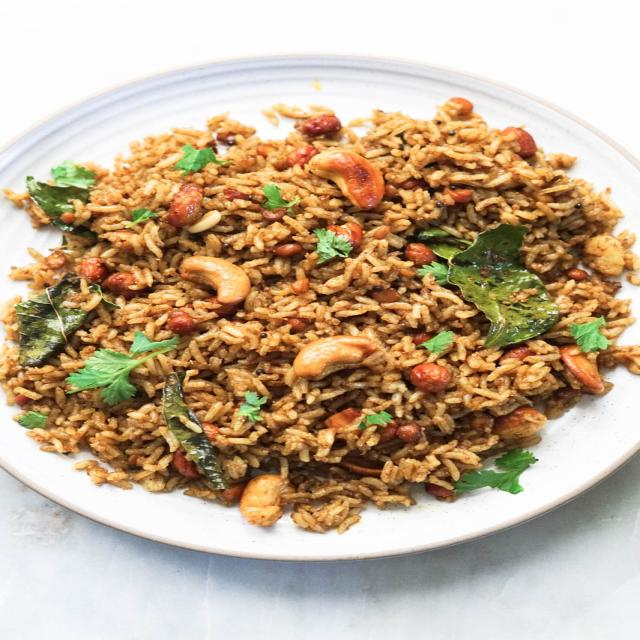puliyogare: (0, 72, 640, 559)
